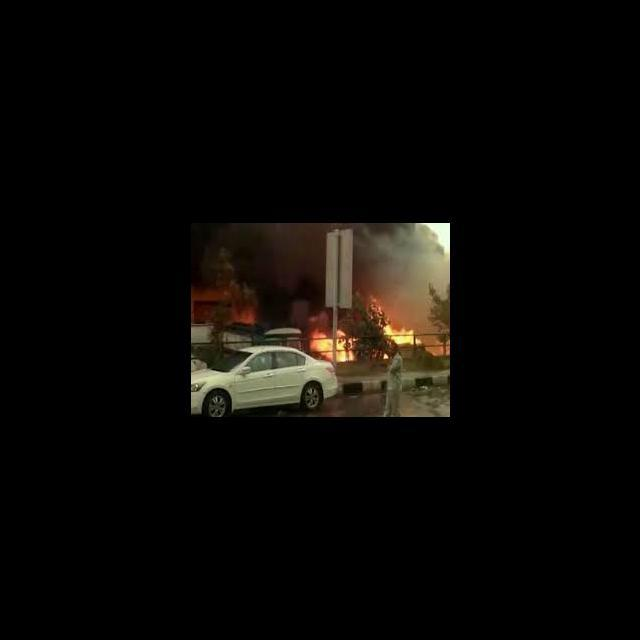Fire: (308, 328, 357, 365), (380, 322, 428, 348)
Smoke: (353, 224, 448, 292)
